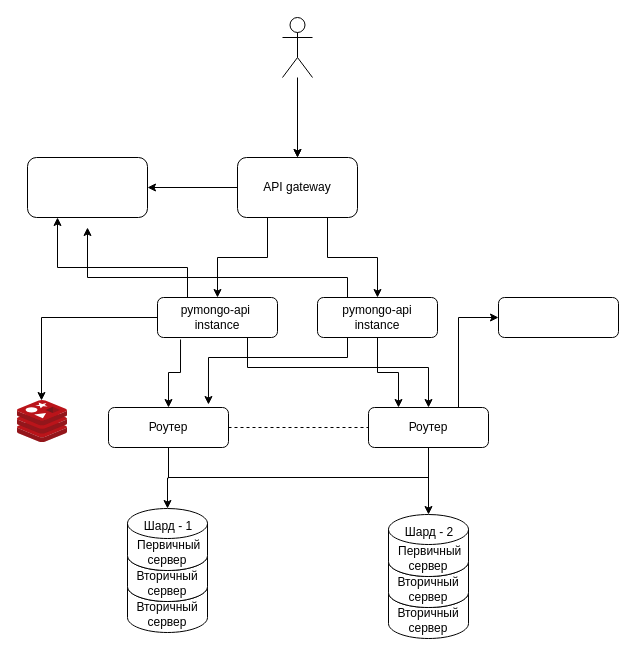
Image size: 636x656. Some labels were removed from this diagram. Here are the shapes that lost their labels. From the top down, the centre of each, then its label:
At point 297,47: "users".
At point 87,187: "Consul".
At point 558,317: "Конфигурационный сервер".
At point 42,421: "redis".
